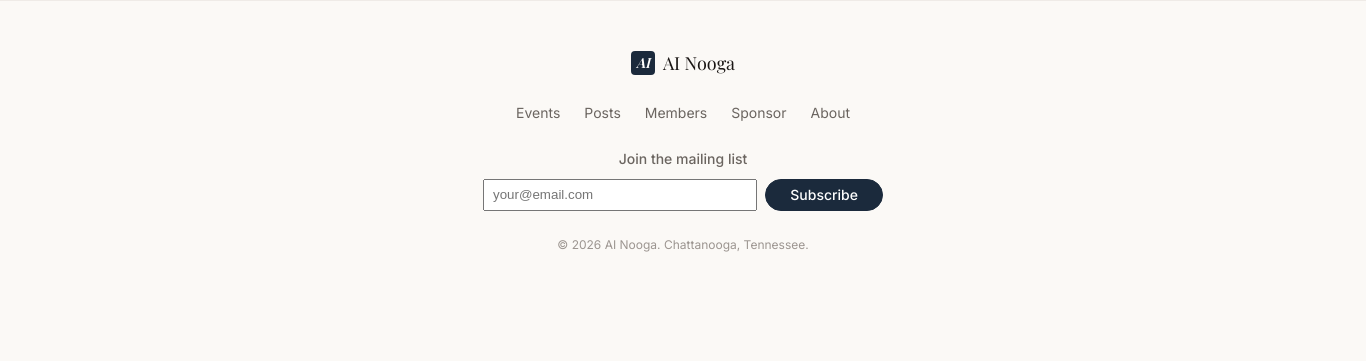
Scenario: SiteFooter newsletter state machine › SUBMITTING → ERROR_VERIFICATION › shows verification error and resets widget
Type "user@example.com" into the field with id "subscribe-email" at x=620, y=195, box left=483, top=179, right=757, bottom=211
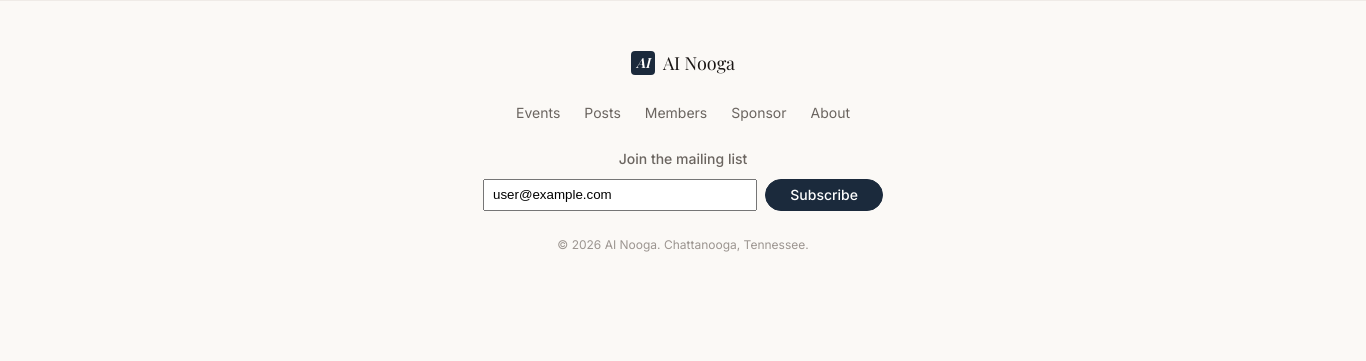
Submit the form with class "site-footer__subscribe", box left=483, top=148, right=883, bottom=211
Wait 250 ms
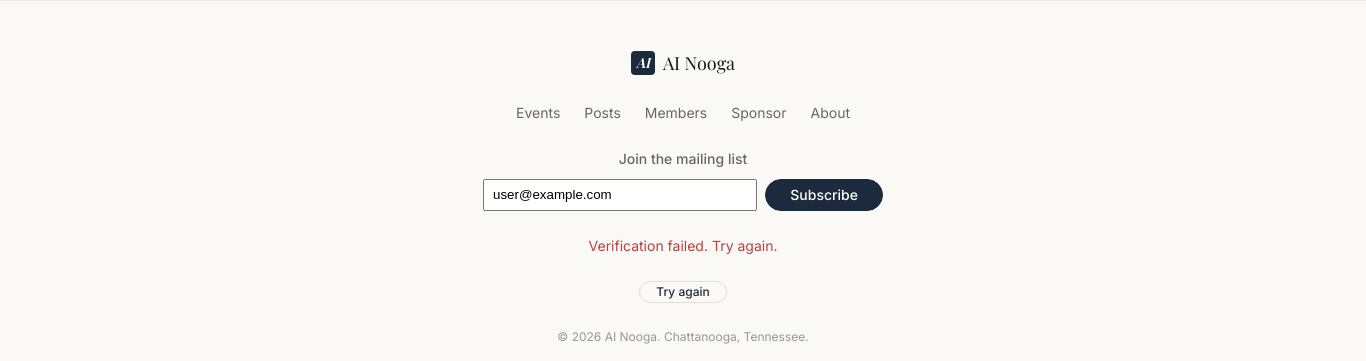
Now the text with class "error" reads "Verification failed. Try again.", box left=588, top=237, right=777, bottom=254
Now the button "Try again" is shown, box left=639, top=281, right=727, bottom=303
